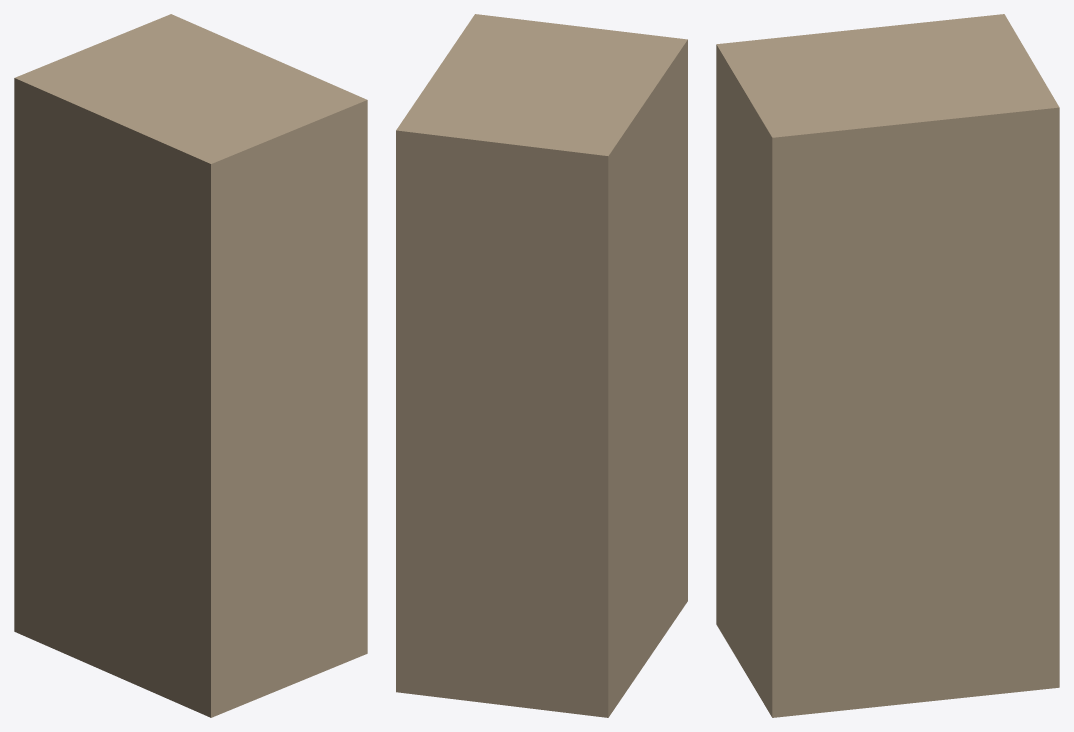
Rendered from bld_393484284.dae.
3 renders of one model, left to right at view 1: azimuth 30°, elevation 25°; view 2: azimuth 150°, elevation 25°; view 3: azimuth 270°, elevation 25°, orthographic. The views are drawn at different scales.
Visible parts, largest first — view 1: bld_393484284; view 2: bld_393484284; view 3: bld_393484284.
Boxes of the visible parts, left/top/right/bottom form: bld_393484284: left=14, top=14, right=367, bottom=717; bld_393484284: left=396, top=14, right=687, bottom=717; bld_393484284: left=716, top=14, right=1059, bottom=717.
Size of the model in its own units: 3.66 by 4.29 by 8.
